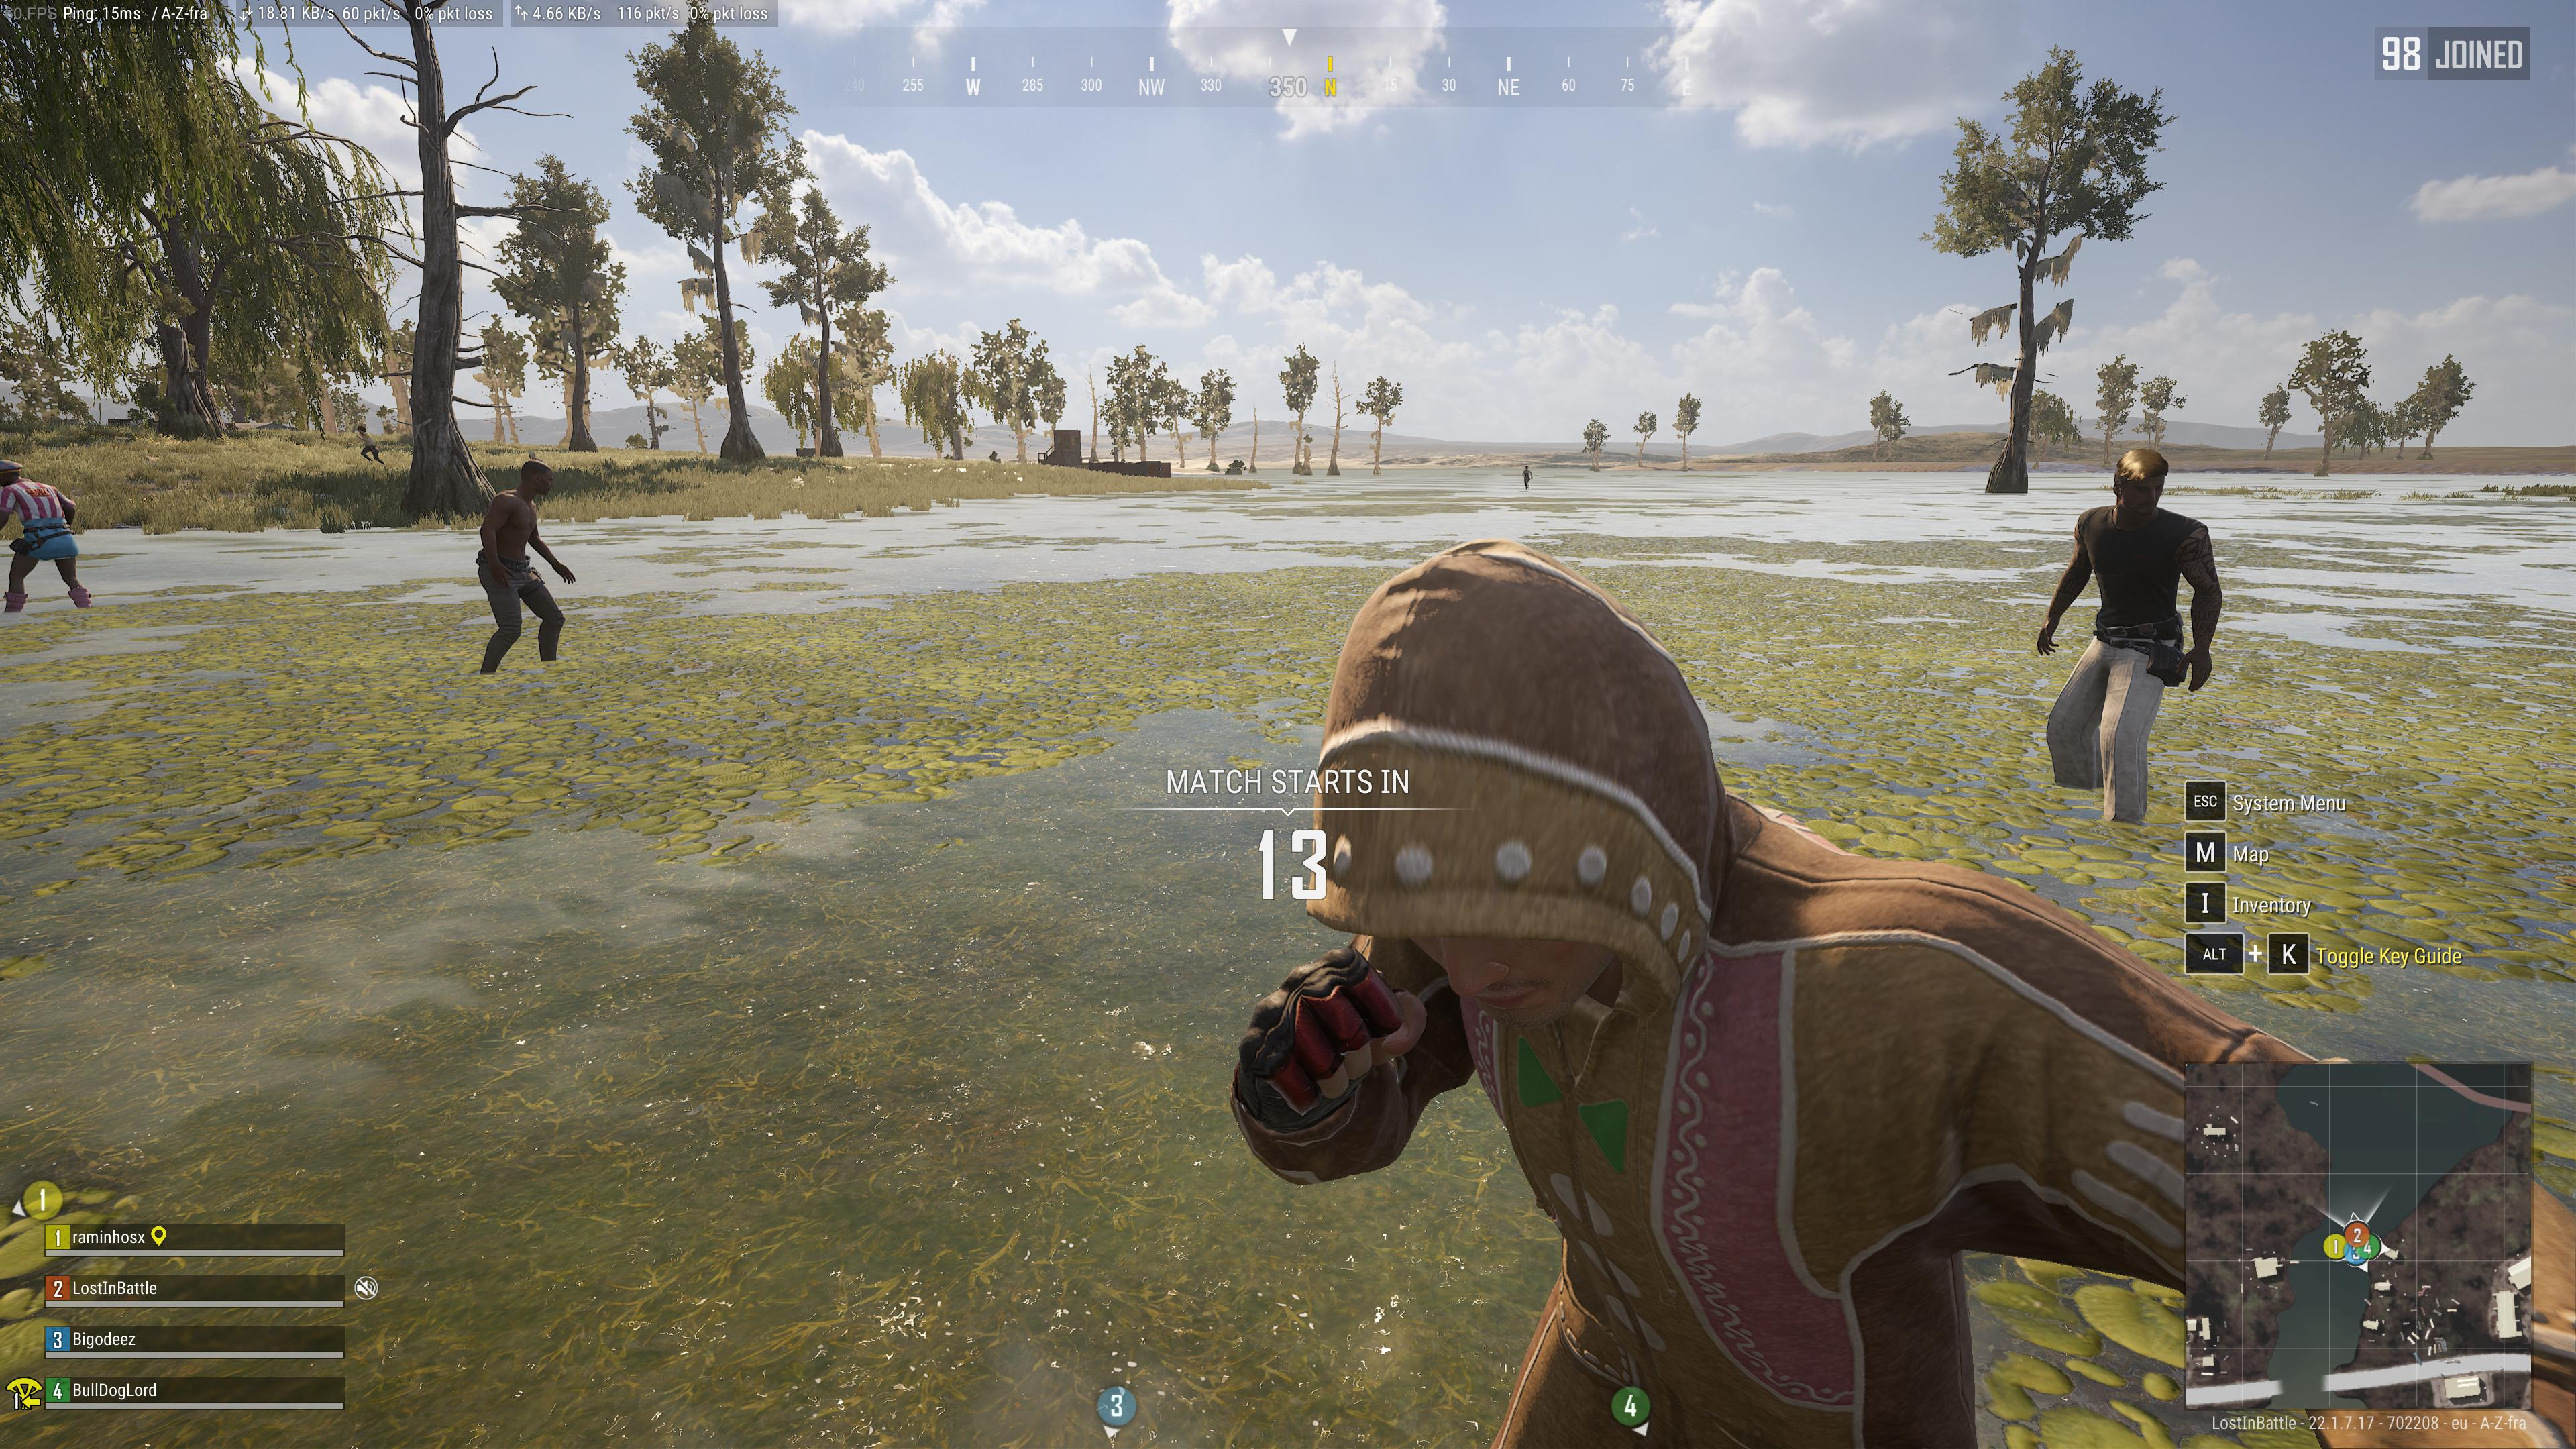enemy: (2026, 444, 2227, 837), (472, 458, 575, 681), (0, 455, 94, 619), (356, 425, 386, 464), (1522, 462, 1532, 492)
enemy_head: (2107, 444, 2173, 525), (517, 458, 556, 495), (0, 458, 21, 488), (357, 425, 366, 433), (1523, 464, 1529, 469)
